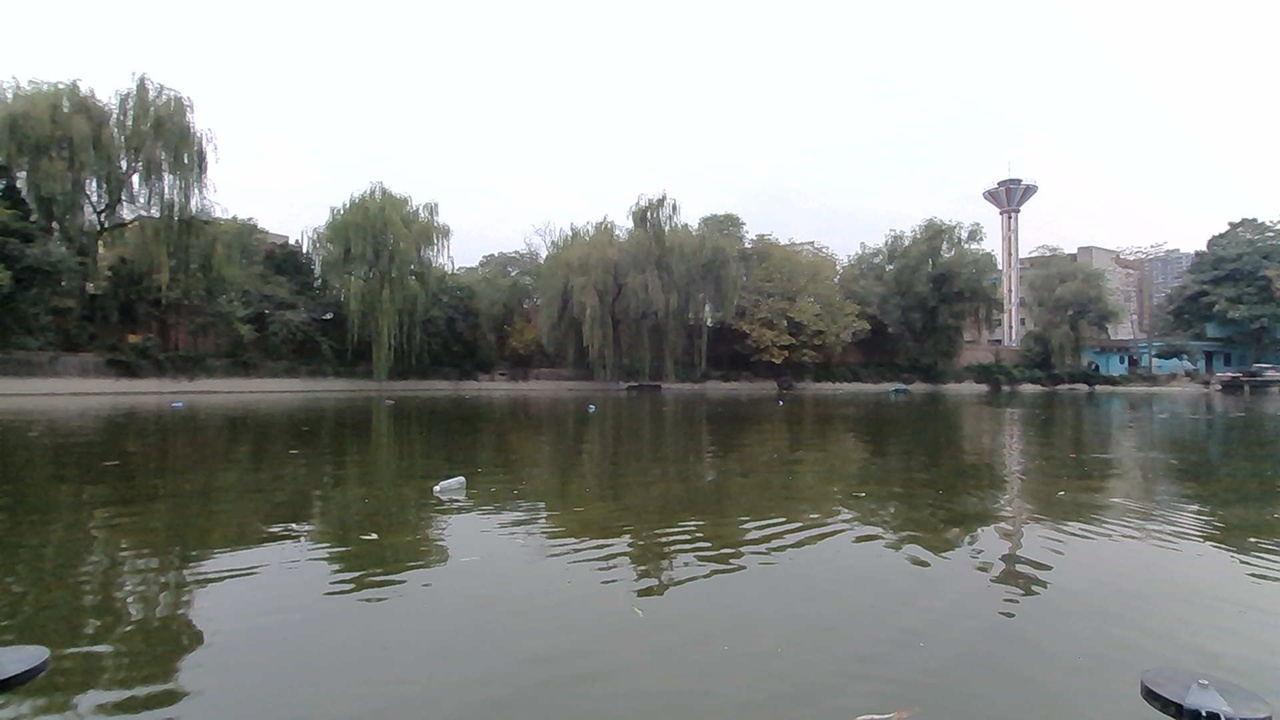bottle: (424, 473, 483, 502), (578, 400, 609, 418)
